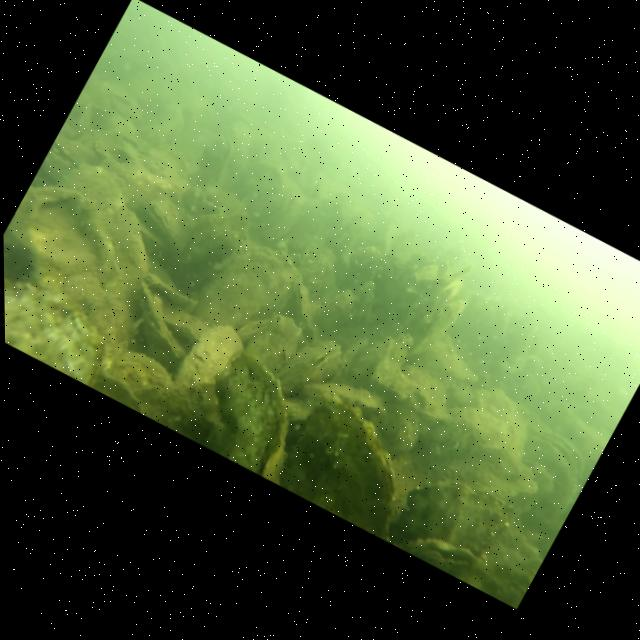Oyster-Closed: (271, 382, 438, 547), (381, 455, 518, 592), (114, 274, 208, 365), (269, 322, 349, 412), (300, 359, 390, 434), (411, 325, 490, 400), (347, 315, 418, 396), (278, 281, 336, 342), (309, 278, 360, 337), (341, 275, 388, 332)
Oyster-Indeterminate: (26, 146, 182, 297), (183, 339, 328, 489), (3, 165, 145, 308), (4, 247, 127, 392), (188, 226, 312, 359), (169, 189, 260, 291), (425, 388, 521, 479), (166, 312, 252, 410), (227, 297, 311, 383)
Oyster-Open: (394, 264, 480, 375), (401, 518, 488, 589), (185, 126, 244, 196), (135, 194, 193, 246)
